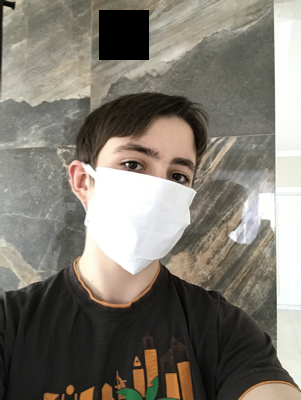with_mask: (83, 138, 197, 276)
